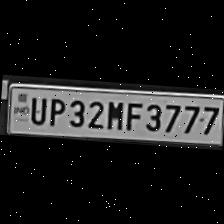2: (84, 96, 104, 129)
3: (140, 99, 162, 132), (64, 96, 86, 128)
7: (197, 102, 219, 135), (161, 101, 181, 133), (178, 102, 198, 134)
F: (122, 98, 142, 131)
M: (102, 97, 124, 131)
P: (45, 95, 65, 127)
U: (27, 94, 46, 125)
